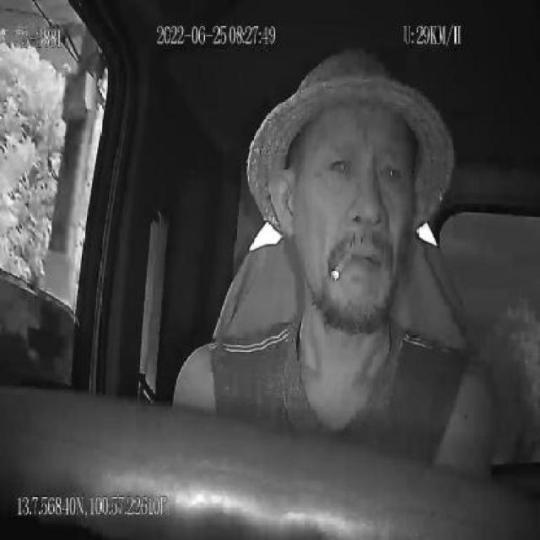smoking: (332, 247, 355, 285)
